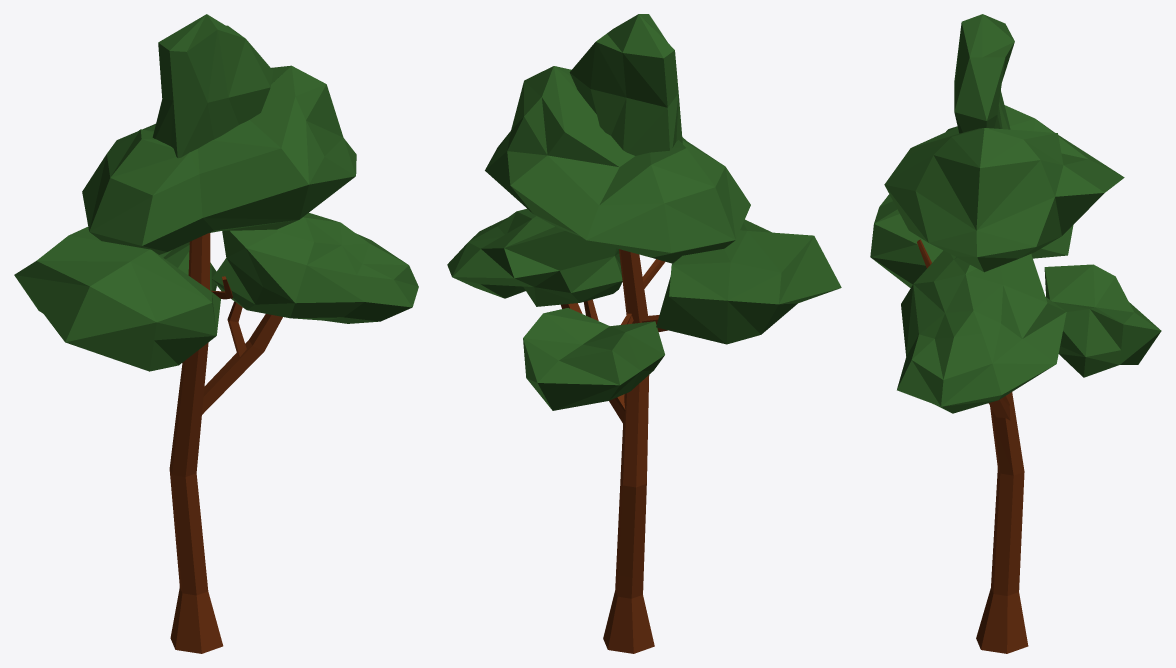
The model's file is TemperateTree_09.glb.
The picture shows the model from 3 angles, left to right: view 1: azimuth 30°, elevation 25°; view 2: azimuth 150°, elevation 25°; view 3: azimuth 270°, elevation 25°; orthographic projection. The views are drawn at different scales.
Visible parts, largest first — view 1: Tree_temp_climate_009; view 2: Tree_temp_climate_009; view 3: Tree_temp_climate_009.
Part boxes in pixels (x1,y1,x2,y2): Tree_temp_climate_009: [14, 14, 418, 653]; Tree_temp_climate_009: [447, 14, 841, 653]; Tree_temp_climate_009: [870, 14, 1161, 653].
Bounding box in the file's own units: 3.46 × 5.75 × 2.42.
Materials: 1 (1 with a texture image).
